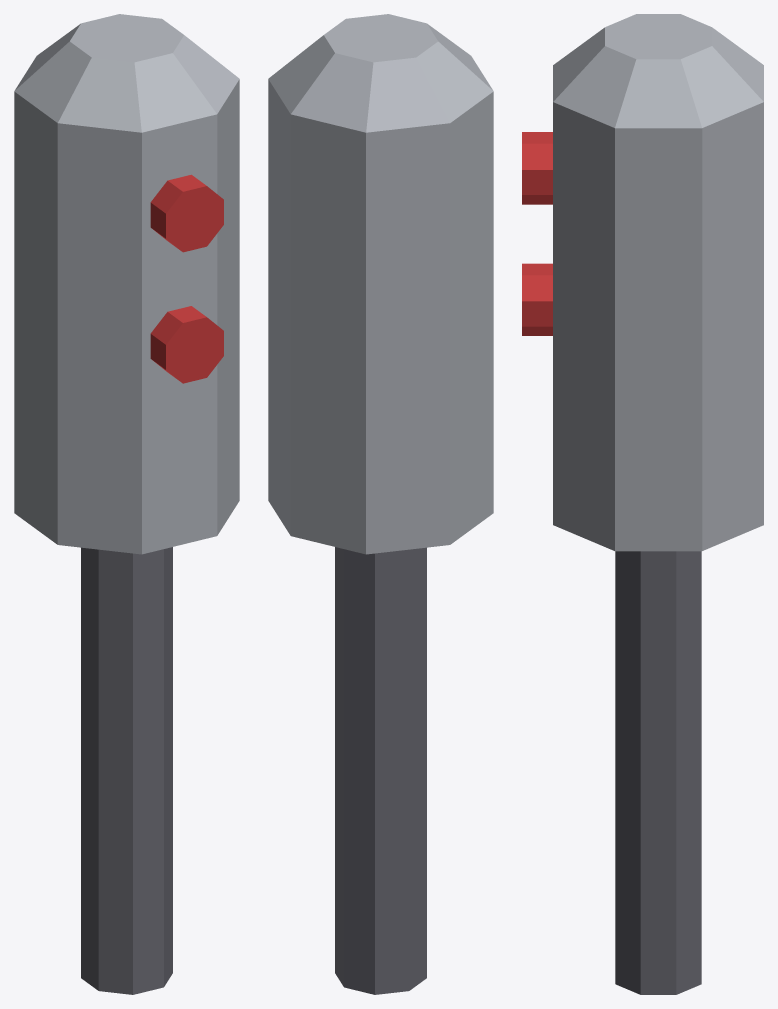
Rendered from joystick_stick.glb.
3 renders of one model, left to right at view 1: azimuth 30°, elevation 25°; view 2: azimuth 150°, elevation 25°; view 3: azimuth 270°, elevation 25°, orthographic.
Visible parts, largest first — view 1: JoystickStick; view 2: JoystickStick; view 3: JoystickStick.
Boxes of the visible parts, bbox=[...] form: JoystickStick: bbox=[14, 14, 239, 994]; JoystickStick: bbox=[268, 14, 493, 994]; JoystickStick: bbox=[522, 14, 763, 994].
Size of the model in its own units: 0.0203 by 0.1 by 0.0233.
